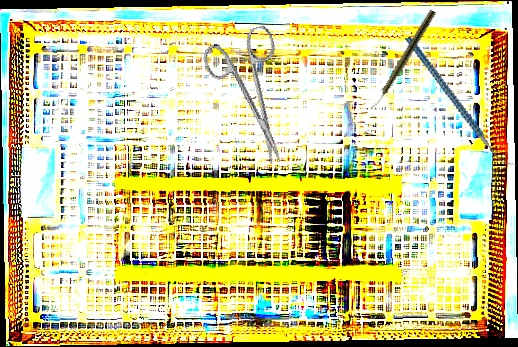Chopper: (405, 18, 516, 186)
Handpiece: (369, 8, 437, 113)
Iris Scissors: (199, 23, 308, 175)
